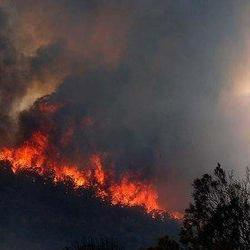fire: (9, 145, 61, 166), (115, 181, 154, 209)
